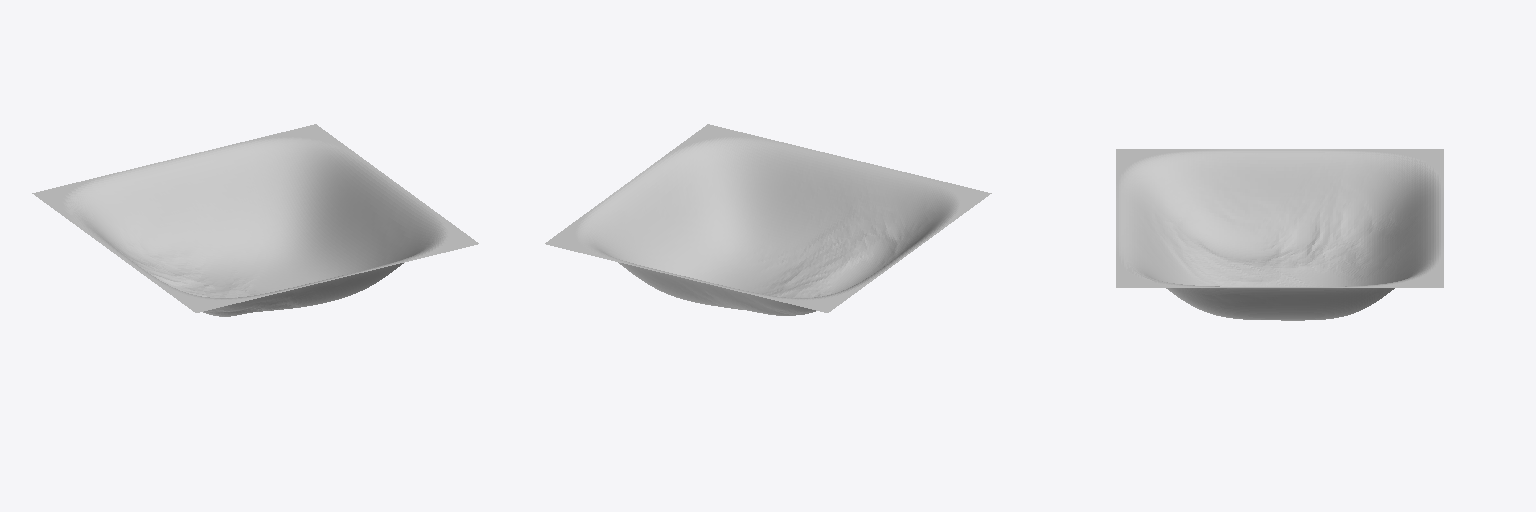
File: Terrain1.obj
3 renders of one model, left to right at view 1: azimuth 30°, elevation 25°; view 2: azimuth 150°, elevation 25°; view 3: azimuth 270°, elevation 25°, orthographic.
Parts seen in each view (by area): view 1: Landscape.001; view 2: Landscape.001; view 3: Landscape.001.
Boxes of the visible parts, x1=… form: Landscape.001: x1=32, y1=124, x2=478, y2=316; Landscape.001: x1=545, y1=124, x2=991, y2=315; Landscape.001: x1=1116, y1=149, x2=1443, y2=320.
Bounding box in the file's own units: 2 × 0.5017 × 2.